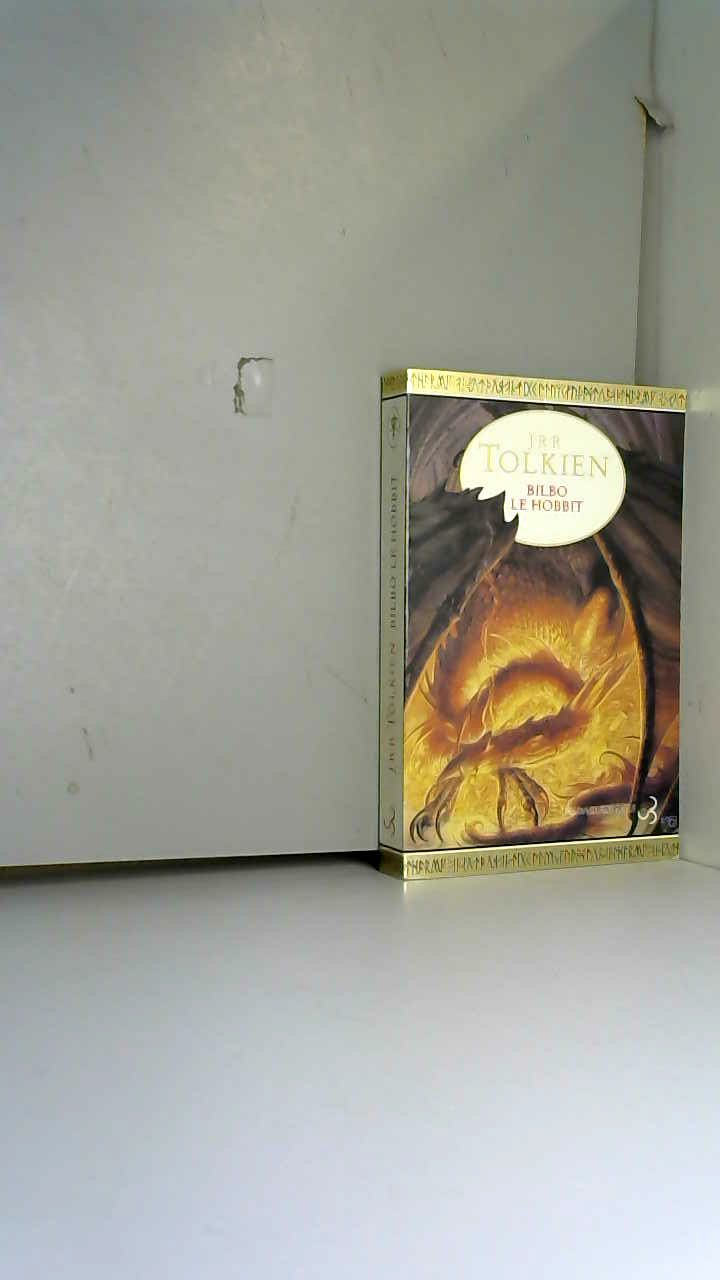book: (380, 340, 720, 917)
